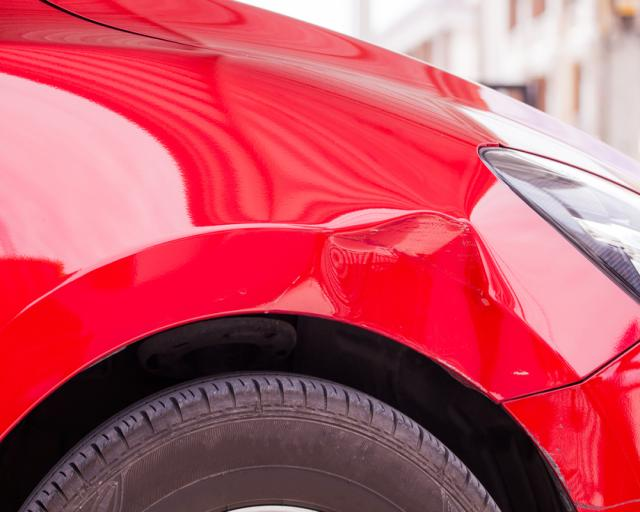dent: (326, 211, 503, 392)
